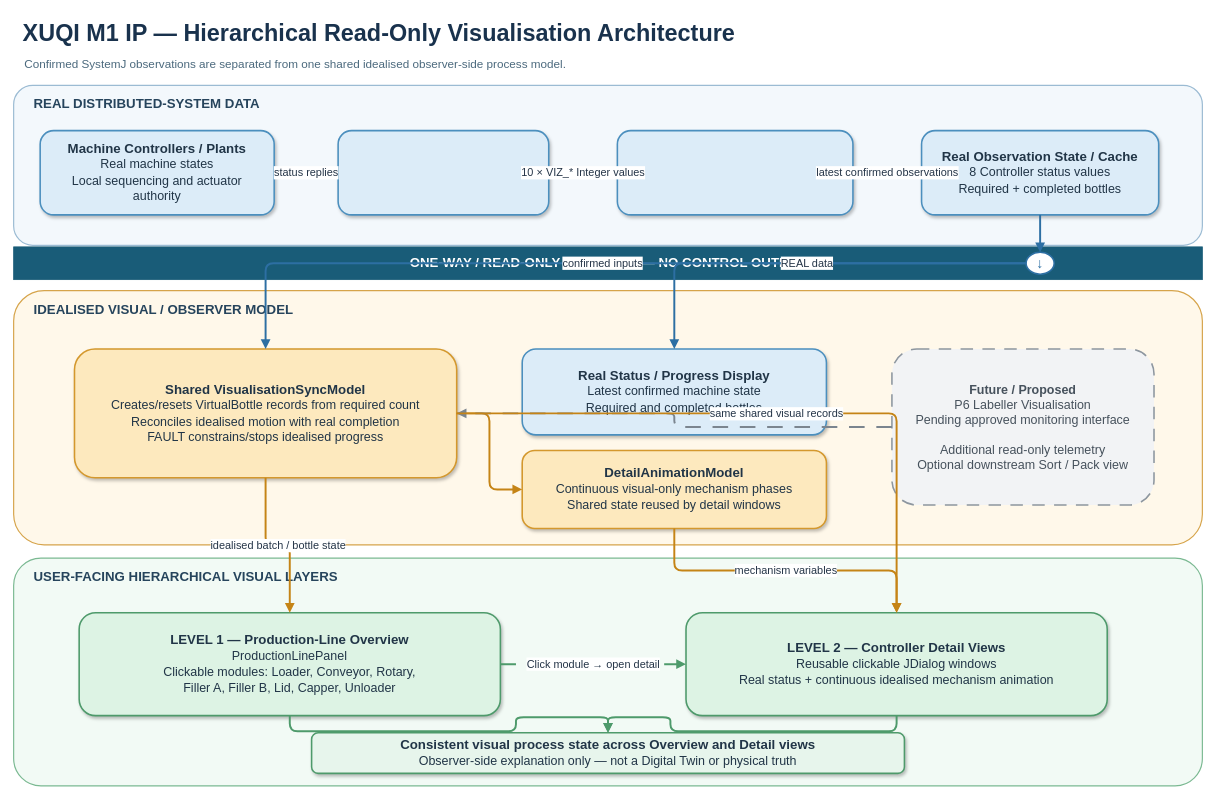
Some shapes in this 1217 by 800 pixel diagram are drawn without their labels. The shapes that lost their labels are listed below. From the top down, each one's centre as x and y in pixels, then its label:
At point (444, 173): "ABS Coordinator Latest status aggregation Required / completed bottle counts".
At point (735, 173): "ABSVisualisationPlantCD SystemJ receiver 127.0.0.1 : 11008".
